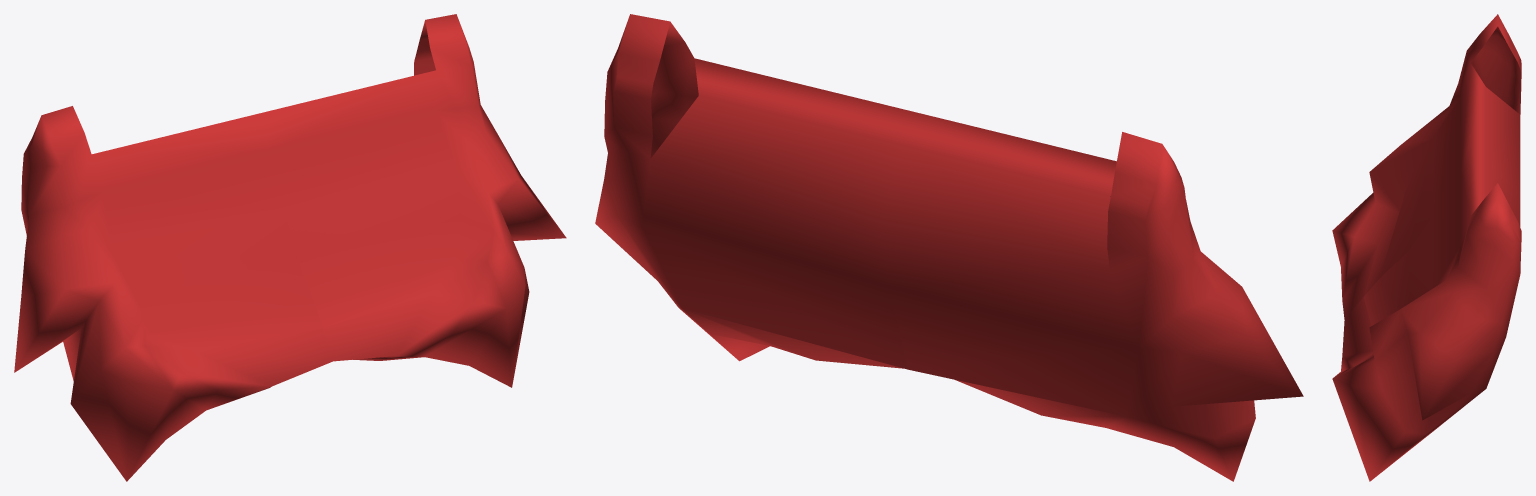
Rendered from Beard_Red_11.fbx.
3 renders of one model, left to right at view 1: azimuth 30°, elevation 25°; view 2: azimuth 150°, elevation 25°; view 3: azimuth 270°, elevation 25°, orthographic. The views are drawn at different scales.
Parts seen in each view (by area): view 1: Beard_Red_11; view 2: Beard_Red_11; view 3: Beard_Red_11.
Part boxes in pixels (bbox=[...]): Beard_Red_11: bbox=[14, 14, 566, 481]; Beard_Red_11: bbox=[595, 14, 1303, 481]; Beard_Red_11: bbox=[1332, 14, 1521, 481].
Bounding box in the file's own units: 66 × 36.6 × 21.51.
